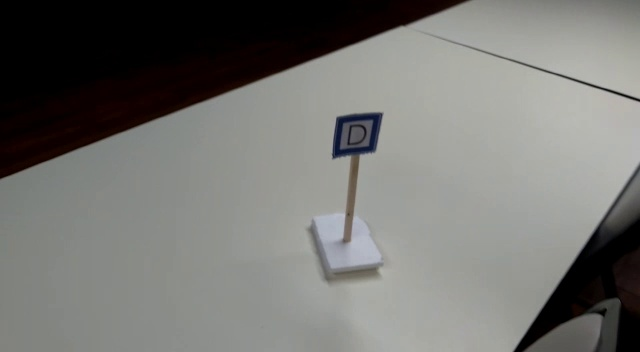durak: (331, 109, 381, 160)
